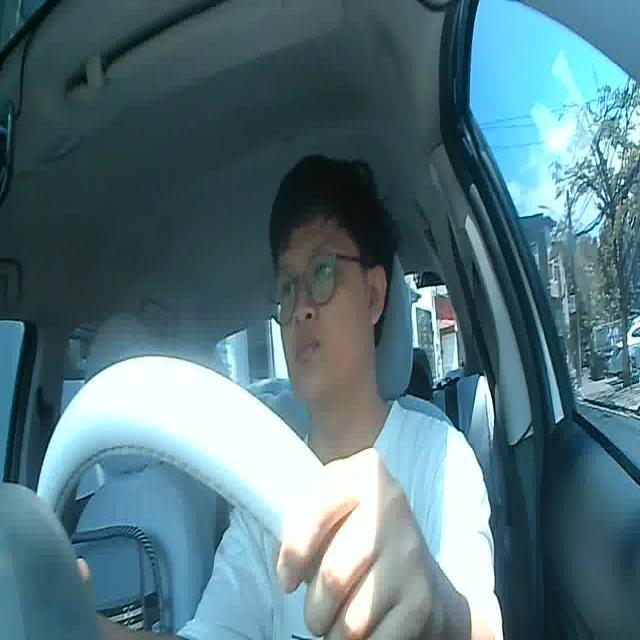Attentive: (263, 151, 398, 393)
Eye-Open: (277, 278, 300, 302), (311, 260, 334, 282)
Normal: (292, 337, 320, 366)
